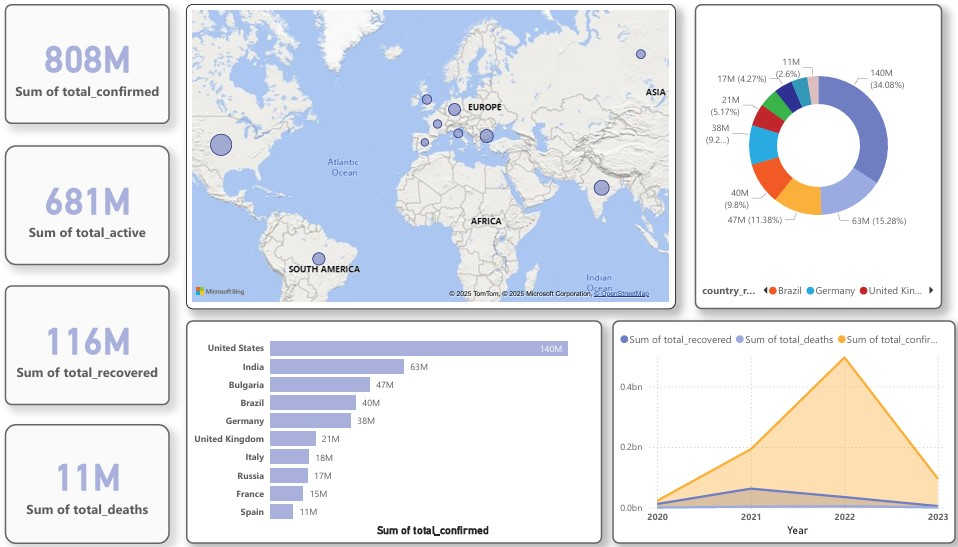

Layout of this report page (visuals, bound fields, positions):
{"tool":"powerbi","page":{"name":"Page 1","canvas":[1280,720],"ordinal":0},"visuals":[{"type":"card","fields":{"Values":["Sum(vu_covid_summary.total_confirmed)"]},"box":[11.7,0,220,160],"z":0},{"type":"card","fields":{"Values":["Sum(vu_covid_summary.total_deaths)"]},"box":[11.7,560,220,160],"z":1000},{"type":"card","fields":{"Values":["Sum(vu_covid_summary.total_recovered)"]},"box":[11.7,375,220,160],"z":2000},{"type":"card","fields":{"Values":["Sum(vu_covid_summary.total_active)"]},"box":[11.7,188.3,220,160],"z":3000},{"type":"clusteredBarChart","fields":{"Category":["vu_top_countries1.country_region"],"Y":["Sum(vu_top_countries1.total_confirmed)"]},"box":[253.3,421.7,555,298.3],"z":4000},{"type":"areaChart","fields":{"Category":["vu_covid_trend1.updated_report.Variation.Date Hierarchy.Year","vu_covid_trend1.updated_report.Variation.Date Hierarchy.Quarter","vu_covid_trend1.updated_report.Variation.Date Hierarchy.Month","vu_covid_trend1.updated_report.Variation.Date Hierarchy.Day"],"Y":["Sum(vu_covid_trend1.total_recovered)","Sum(vu_covid_trend1.total_deaths)","Sum(vu_covid_trend1.total_confirmed)"]},"box":[821.7,421.7,458.3,298.3],"z":5000},{"type":"map","fields":{"Category":["vu_location.country_region"],"Size":["Sum(vu_location.total_confirmed)"]},"box":[253.3,0,653.3,406.7],"z":6000},{"type":"donutChart","fields":{"Category":["vu_location.country_region"],"Y":["Sum(vu_location.total_confirmed)"]},"box":[931.7,0,330,406.7],"z":7000}]}

Visuals, with their boxes in screenshot pixels (x1, y1, x2, y2), scaled from the page's 1280x720 canvas onto the 958x547 screenshot:
card - Sum(vu_covid_summary.total_confirmed): {"left": 9, "top": 0, "right": 173, "bottom": 122}
card - Sum(vu_covid_summary.total_deaths): {"left": 9, "top": 425, "right": 173, "bottom": 546}
card - Sum(vu_covid_summary.total_recovered): {"left": 9, "top": 285, "right": 173, "bottom": 406}
card - Sum(vu_covid_summary.total_active): {"left": 9, "top": 143, "right": 173, "bottom": 265}
clusteredBarChart - vu_top_countries1.country_region x Sum(vu_top_countries1.total_confirmed): {"left": 190, "top": 320, "right": 605, "bottom": 546}
areaChart - vu_covid_trend1.updated_report.Variation.Date Hierarchy.Year x vu_covid_trend1.updated_report.Variation.Date Hierarchy.Quarter: {"left": 615, "top": 320, "right": 957, "bottom": 546}
map - vu_location.country_region x Sum(vu_location.total_confirmed): {"left": 190, "top": 0, "right": 679, "bottom": 309}
donutChart - vu_location.country_region x Sum(vu_location.total_confirmed): {"left": 697, "top": 0, "right": 944, "bottom": 309}
